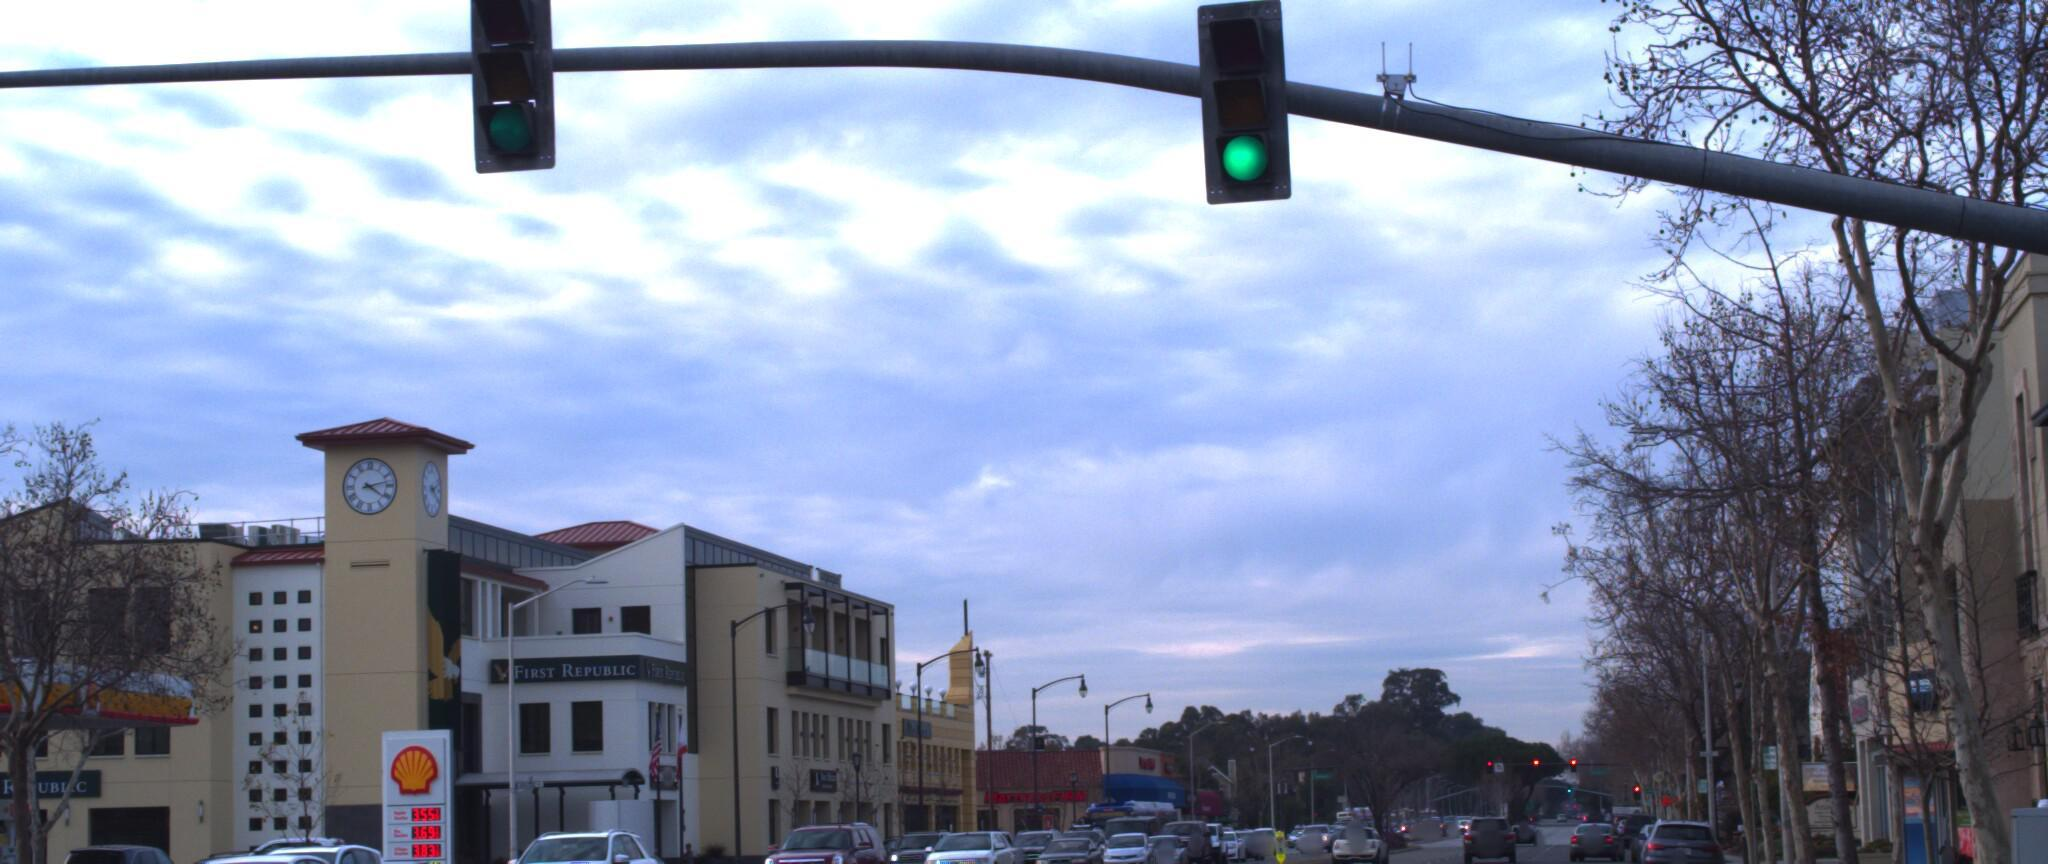car: (195, 827, 431, 864), (475, 826, 670, 864), (195, 831, 417, 864), (748, 813, 888, 864), (112, 843, 380, 864), (1626, 820, 1718, 864), (905, 830, 1010, 864), (0, 857, 182, 864)
